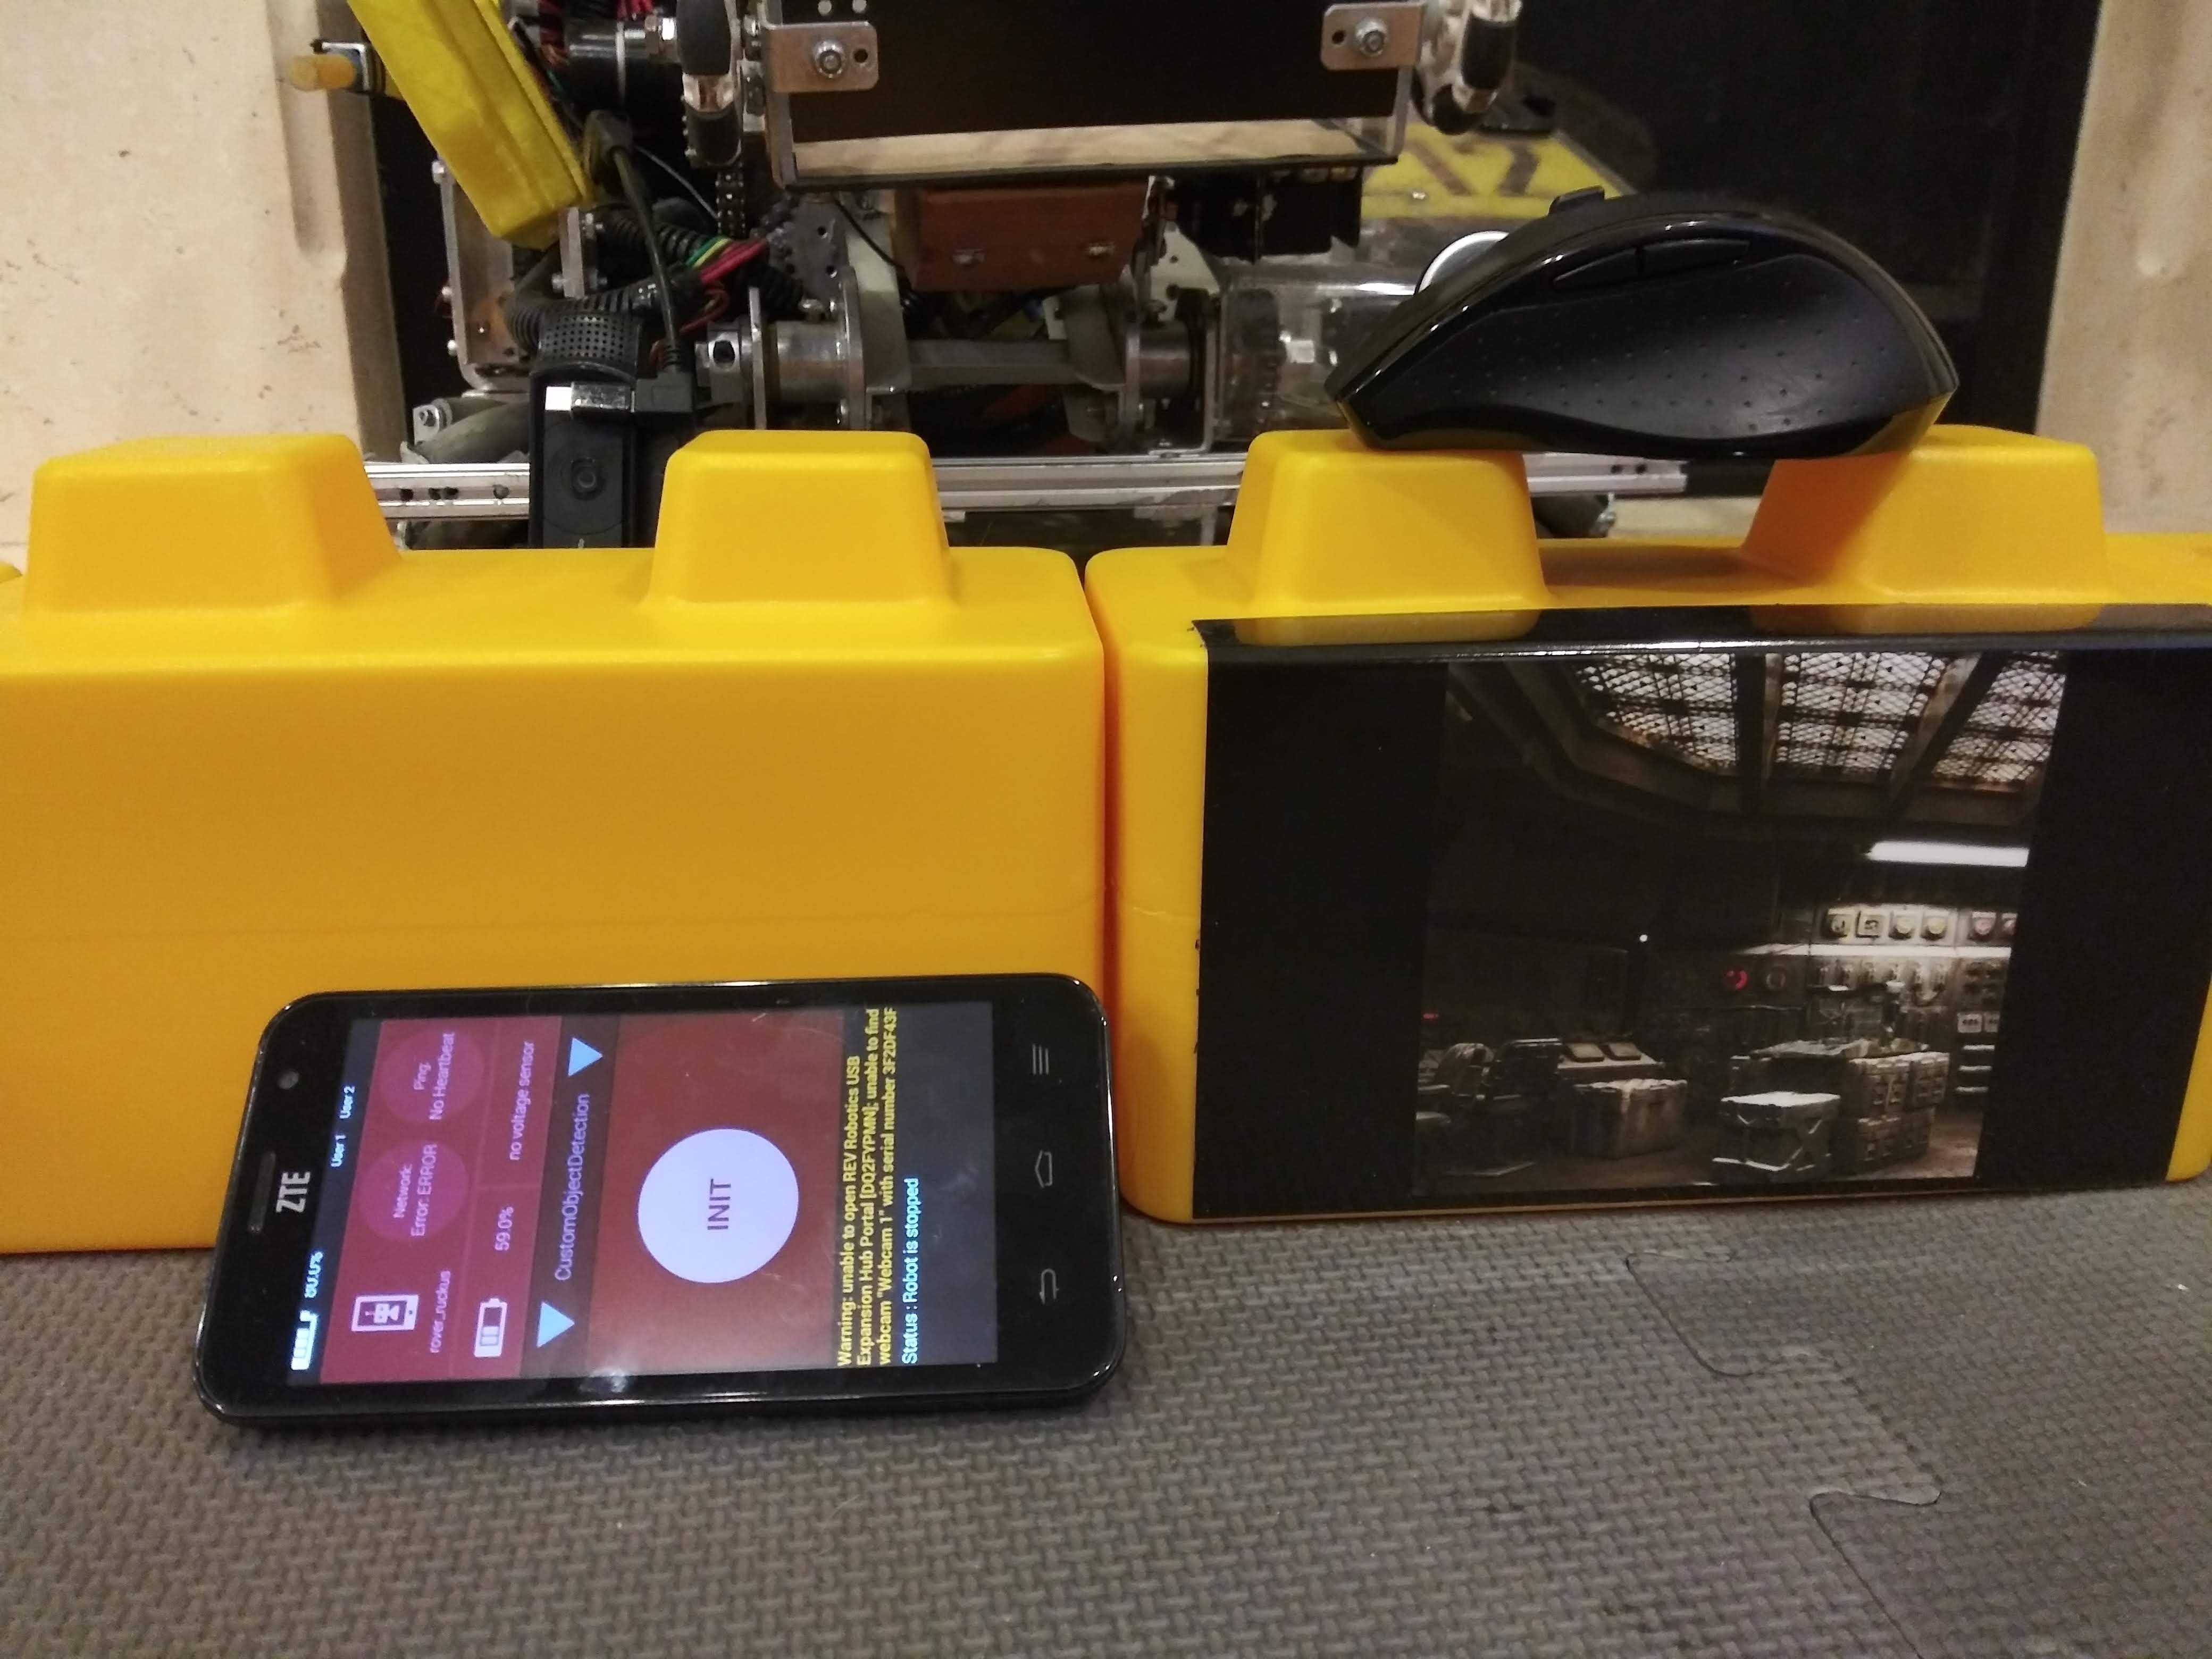skystone: (1167, 525, 2174, 1204)
stone: (3, 472, 1083, 1012)
